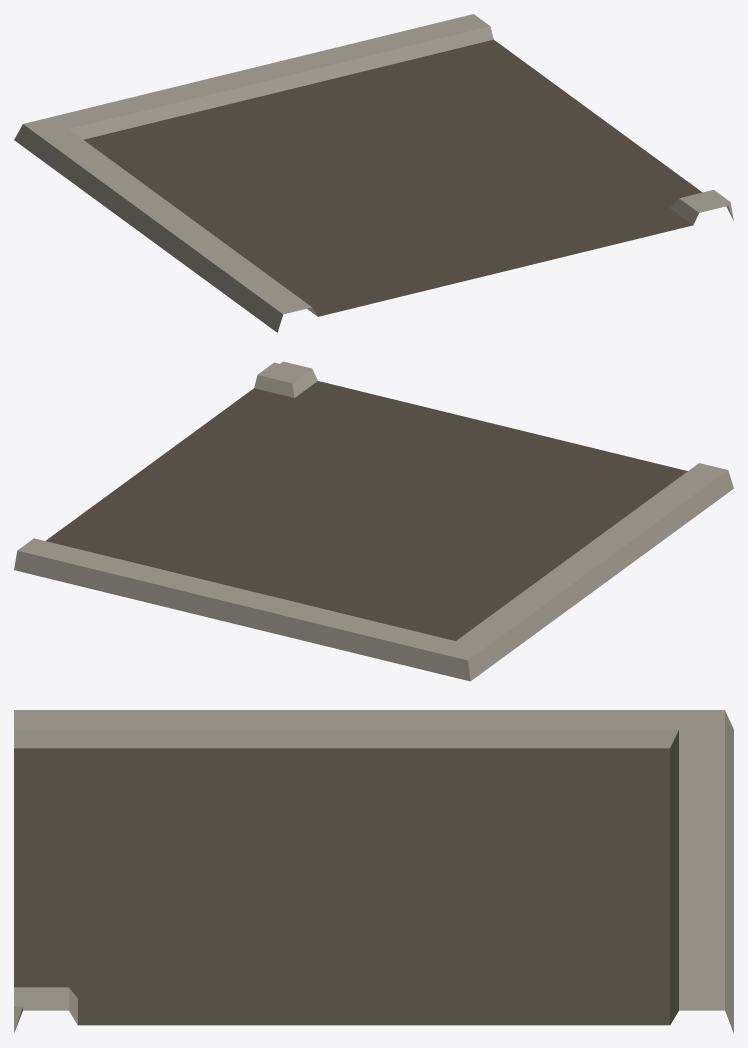
Rendered from ParkRoad_3_B.fbx.
3 views of the same model, one above another, from view 1: azimuth 30°, elevation 25°; view 2: azimuth 150°, elevation 25°; view 3: azimuth 270°, elevation 25° (orthographic). The views are drawn at different scales.
Visible parts, largest first — view 1: ParkRoad_3_B; view 2: ParkRoad_3_B; view 3: ParkRoad_3_B.
Part boxes in pixels (box(x1,y1,x2,y2)): ParkRoad_3_B: box(14, 14, 733, 332); ParkRoad_3_B: box(14, 361, 733, 681); ParkRoad_3_B: box(14, 710, 733, 1032).
Size of the model in its own units: 200 by 7.16 by 200.
